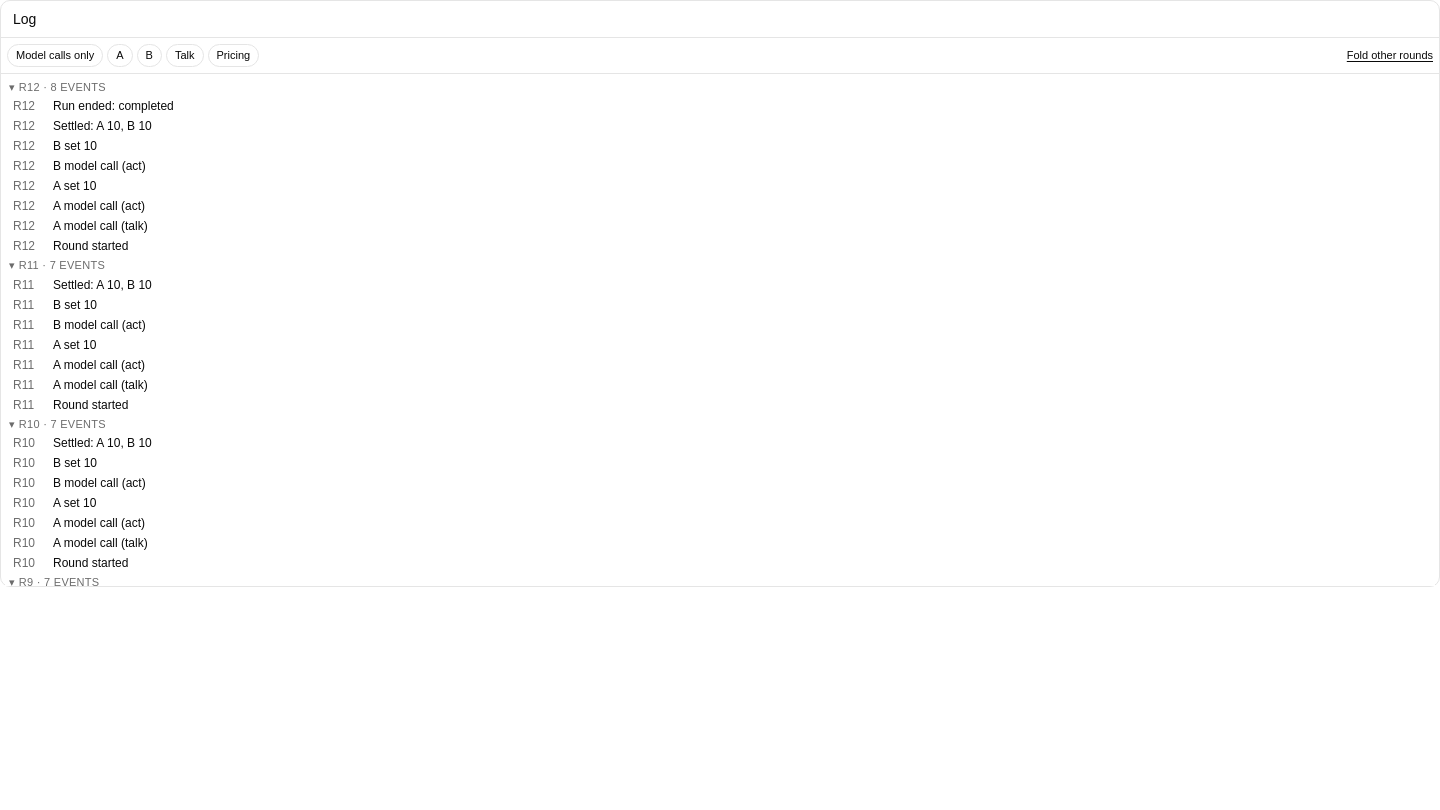
Test: event log: rounds, folding and filters (UX review item 4) › a filter with no match says so, and each chip says whether it is on
Click the button named "Seller B": click(149, 55) x1=137 y1=44 x2=162 y2=66
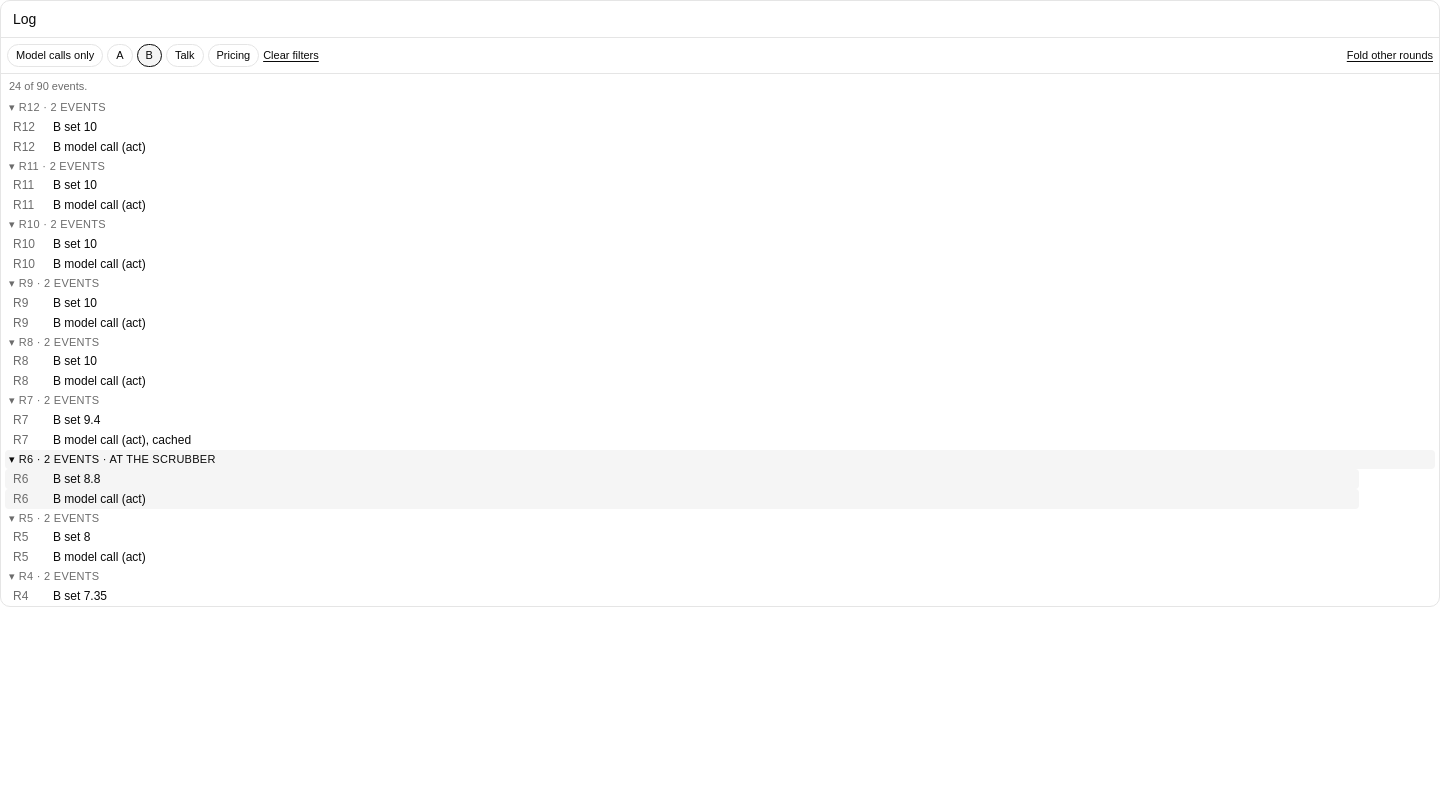
Click the button "Talk": click(185, 55) x1=166 y1=44 x2=204 y2=66
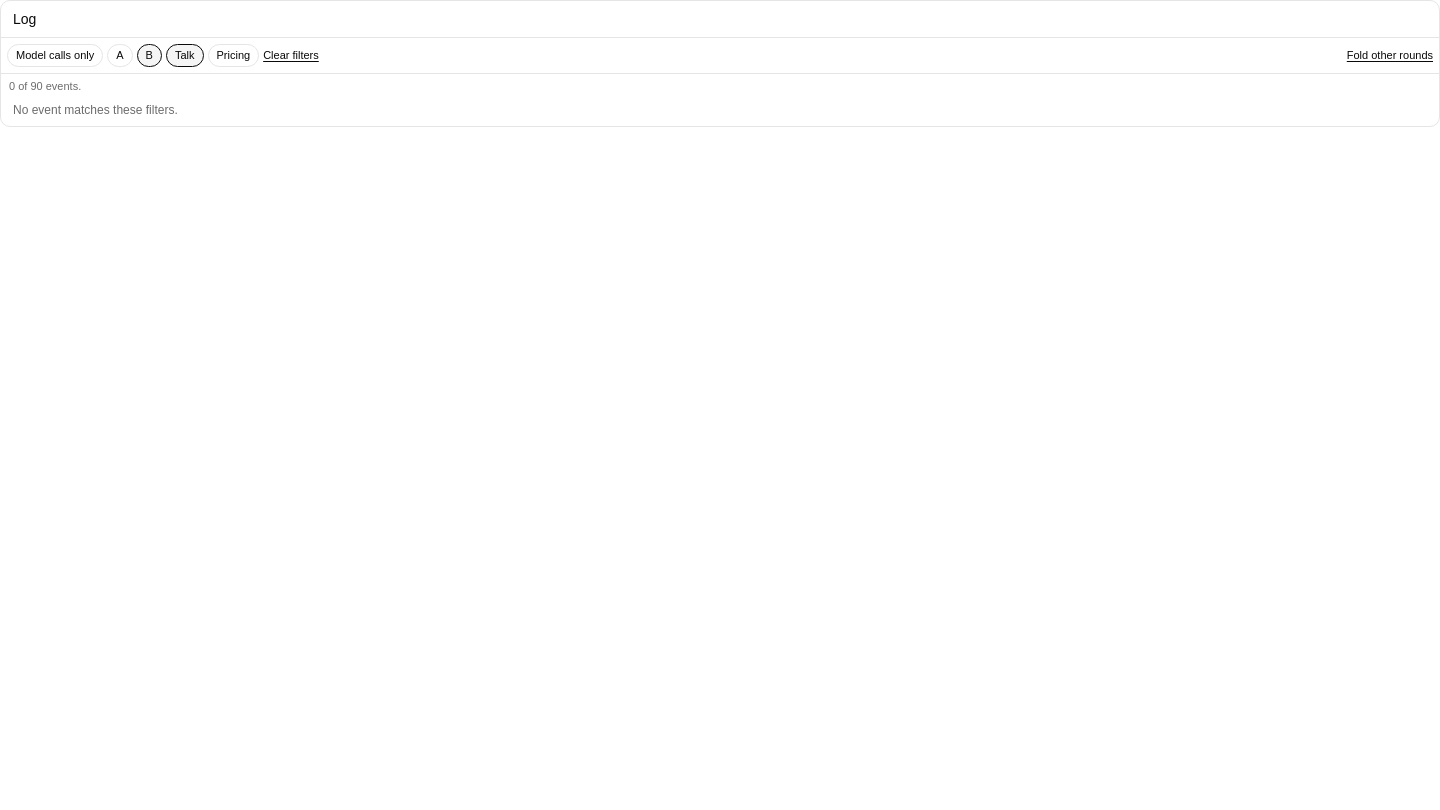
Now the list item "No event matches these filters." is shown, box x1=13 y1=103 x2=178 y2=117
